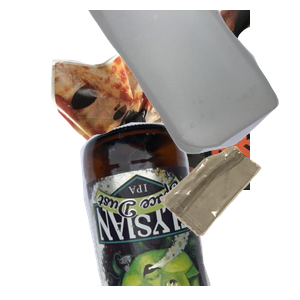glass: (78, 120, 281, 300)
paper: (49, 10, 289, 190)
plastic: (84, 10, 300, 157)
trash: (158, 144, 300, 300)
